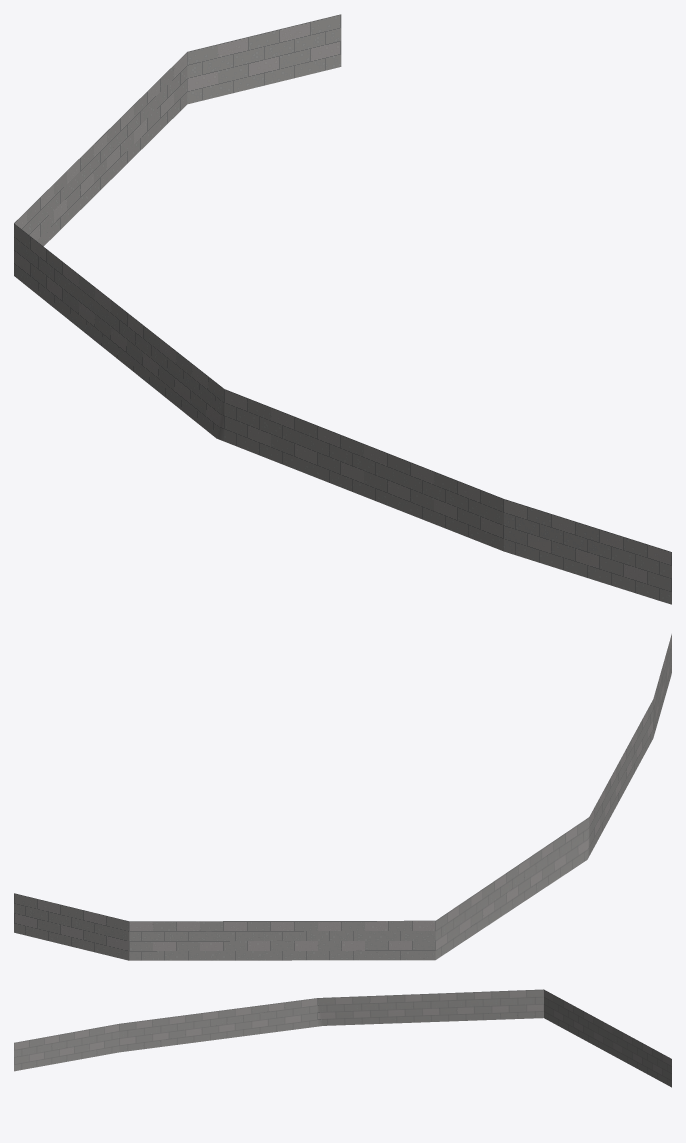
File: kd_stage_135fe0_3_49_bounded.glb
3 renders of one model, top to bottom at view 1: azimuth 30°, elevation 25°; view 2: azimuth 150°, elevation 25°; view 3: azimuth 270°, elevation 25°, orthographic. The views are drawn at different scales.
Visible parts, largest first — view 1: kd_stage_135fe0_3_49_bounded; view 2: kd_stage_135fe0_3_49_bounded; view 3: kd_stage_135fe0_3_49_bounded.
Part boxes in pixels (x1=…): kd_stage_135fe0_3_49_bounded: x1=14, y1=14, x2=671, y2=604; kd_stage_135fe0_3_49_bounded: x1=14, y1=634, x2=671, y2=960; kd_stage_135fe0_3_49_bounded: x1=14, y1=989, x2=671, y2=1087.
Bounding box in the file's own units: 9.73 × 1.7 × 22.89.
Materials: 1 (1 with a texture image).
